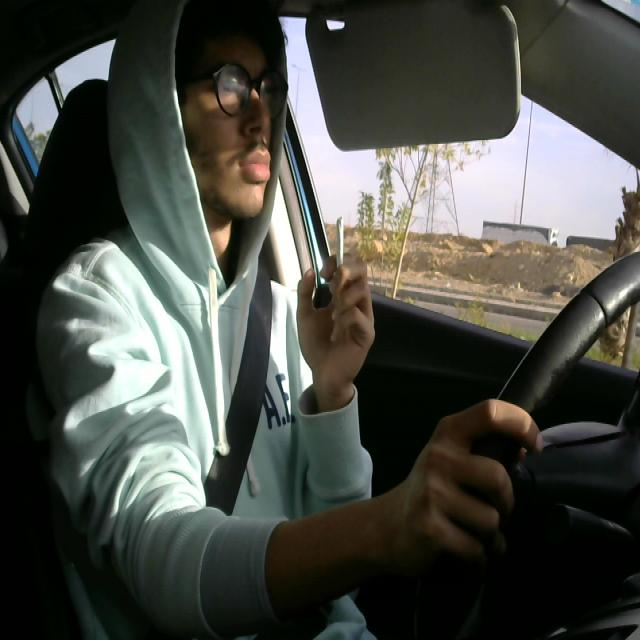smoking: (326, 214, 355, 303)
